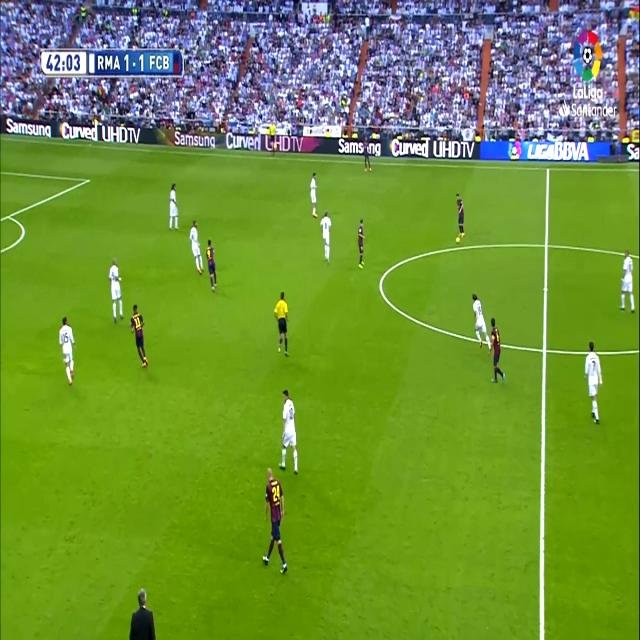bigarea_bottom_outter: (5, 208, 13, 224)
halfcircle_bottom: (538, 334, 551, 364)
halfcircle_top: (540, 231, 552, 258)
midline_top_intersection: (544, 162, 552, 176)
